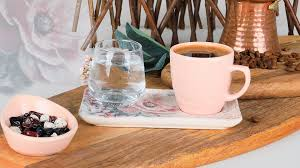kahve: (170, 41, 251, 115)
